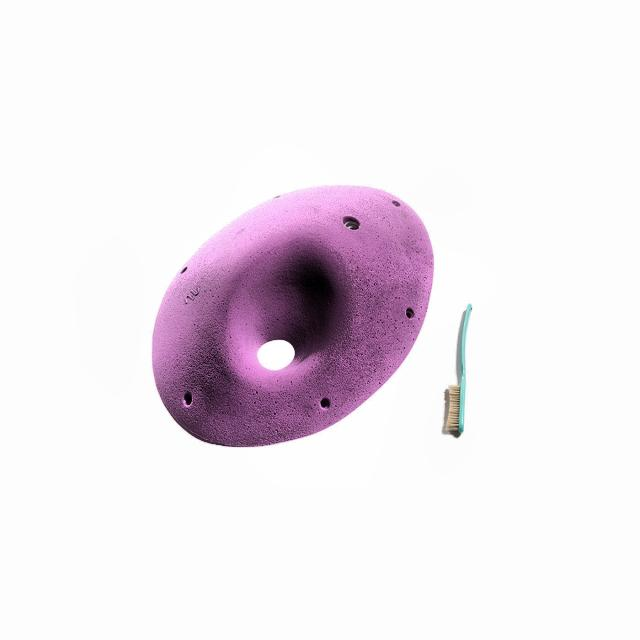Hold: (151, 183, 436, 450)
